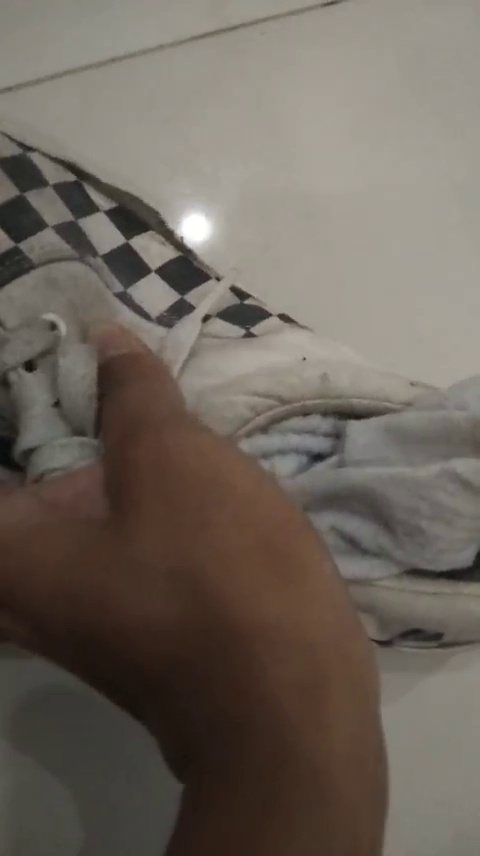bonding: (64, 152, 198, 252)
